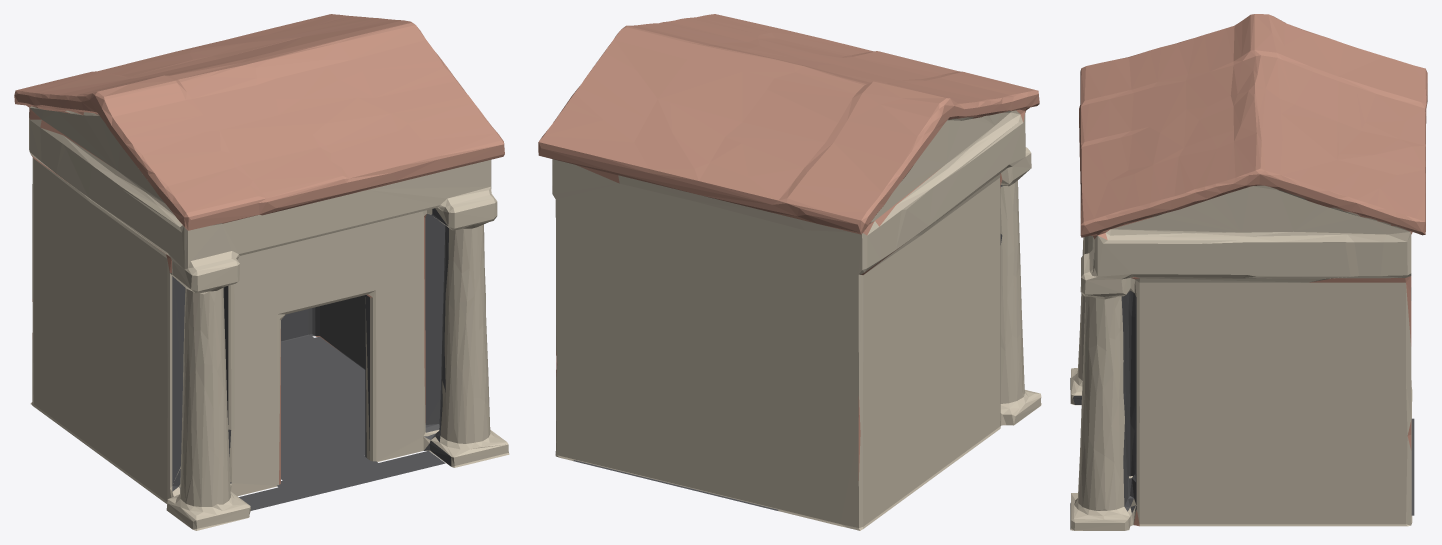
3 renders of one model, left to right at view 1: azimuth 30°, elevation 25°; view 2: azimuth 150°, elevation 25°; view 3: azimuth 270°, elevation 25°, orthographic. The views are drawn at different scales.
Visible parts, largest first — view 1: geometry_0; view 2: geometry_0; view 3: geometry_0.
Part boxes in pixels (x1,y1,x2,y2): geometry_0: (14, 14, 509, 530); geometry_0: (538, 14, 1041, 530); geometry_0: (1070, 14, 1427, 530).
Bounding box in the file's own units: 0.85 × 0.9304 × 0.8277.
